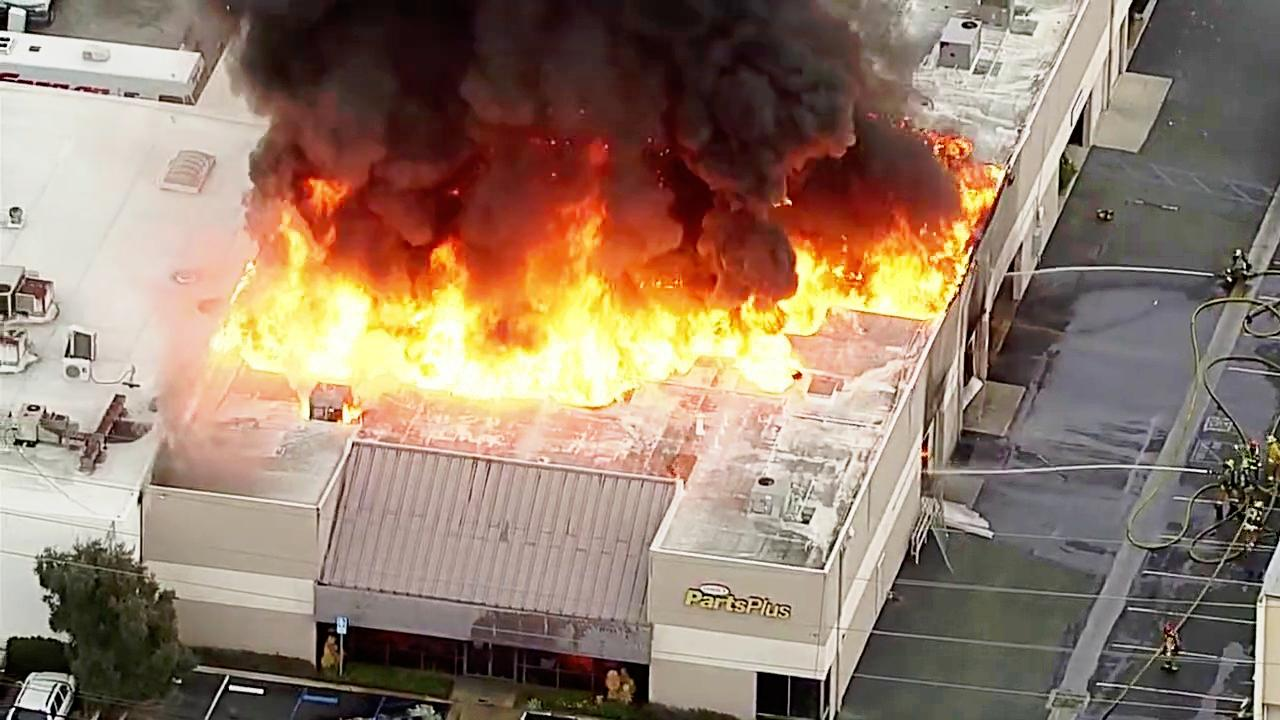fire: (505, 162, 639, 398), (230, 205, 363, 382), (366, 255, 490, 396), (797, 215, 946, 320), (677, 304, 804, 376)
smoke: (263, 0, 847, 198)
